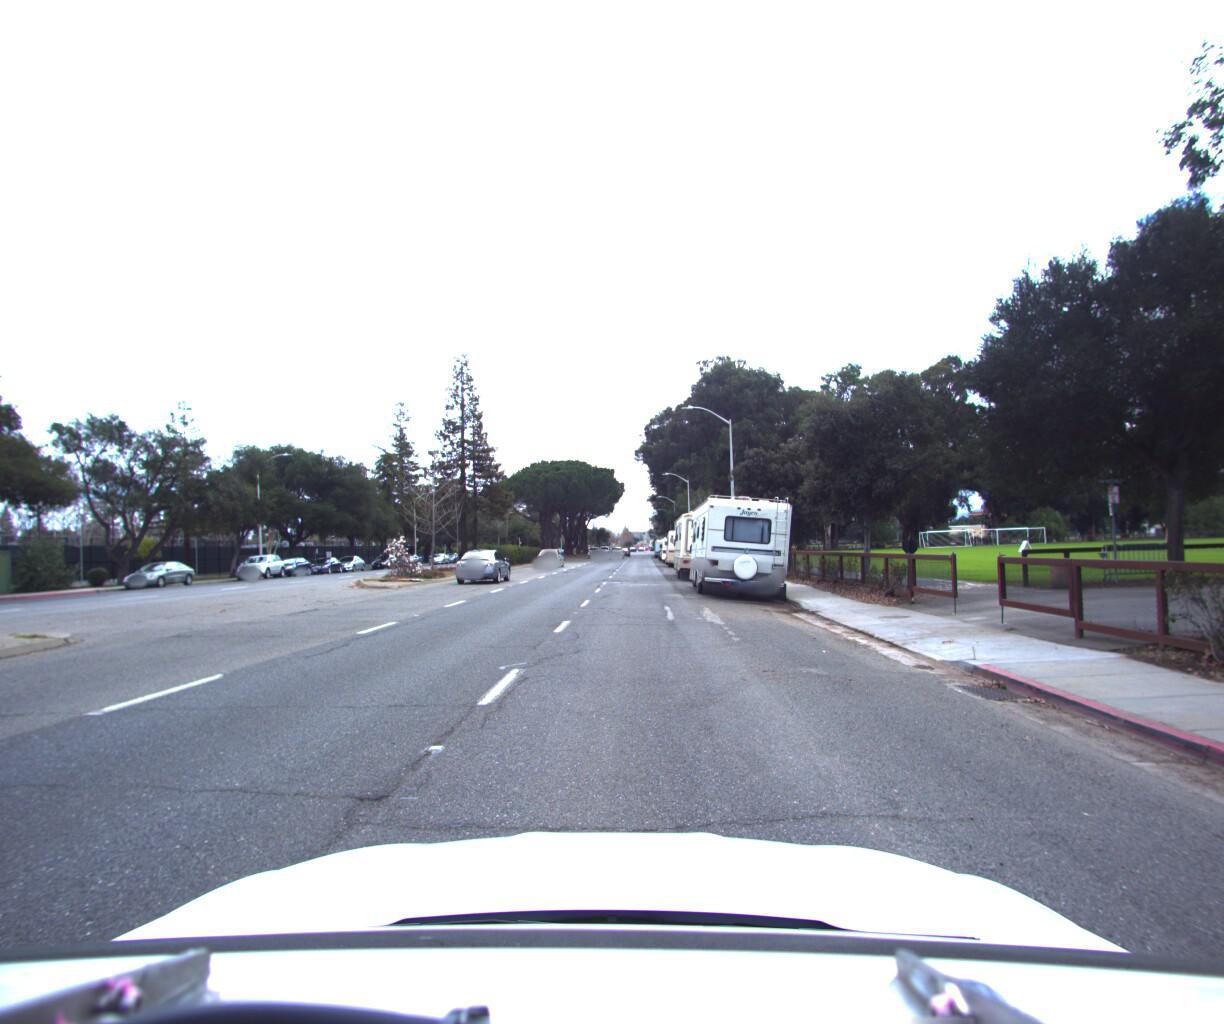car: (116, 555, 202, 586), (452, 543, 511, 579), (232, 548, 290, 577), (269, 552, 314, 575), (304, 552, 345, 573), (328, 552, 367, 569), (533, 541, 563, 561), (368, 550, 400, 566)
other_vehicle: (681, 486, 798, 597), (670, 498, 737, 577), (663, 521, 701, 561), (659, 528, 687, 556)
